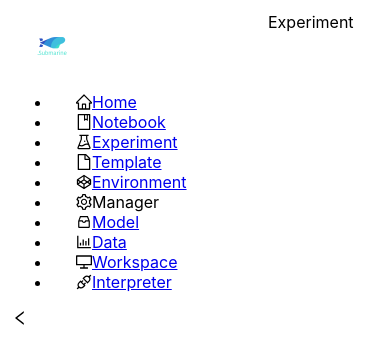
Test: Router test › Template page router
Click the link with test id "template-link" at coordinates (127, 162), box top-left (92, 152), bottom-right (162, 172)
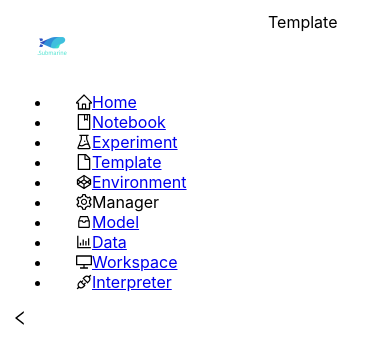
Now the element with test id "template-page" is shown, box top-left (268, 12), bottom-right (338, 32)
